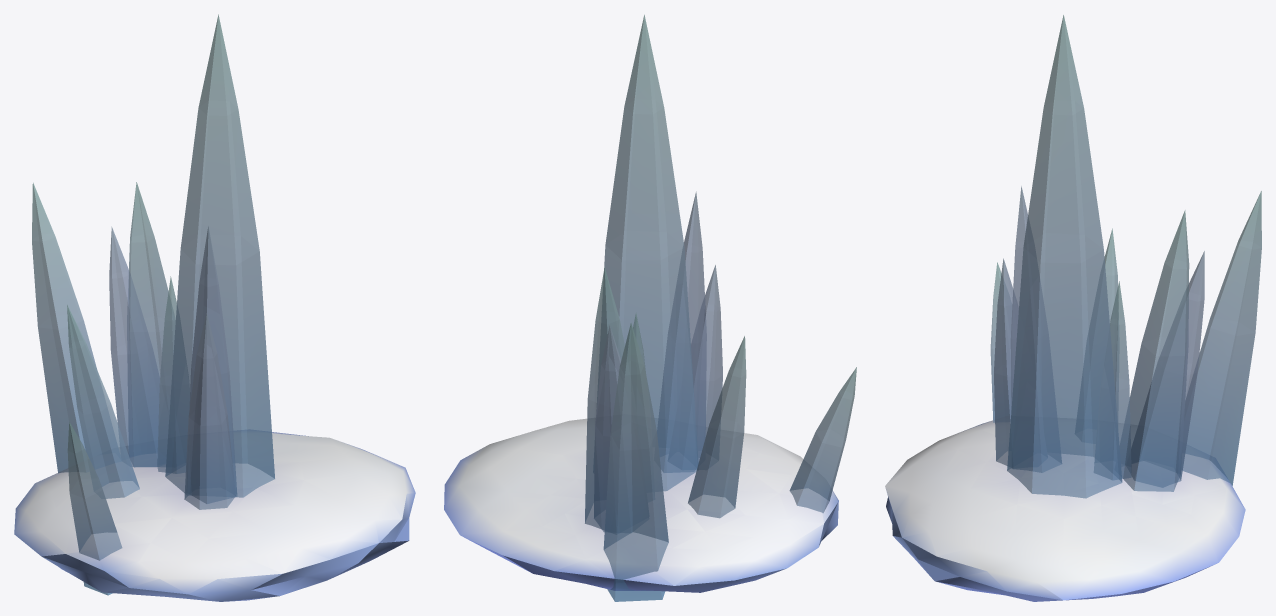
Rendered from glass_misc_ice_spikes_a.glb.
The picture shows the model from 3 angles, left to right: view 1: azimuth 30°, elevation 25°; view 2: azimuth 150°, elevation 25°; view 3: azimuth 270°, elevation 25°; orthographic projection.
Visible parts, largest first — view 1: glass_misc_ice_spikes_a; view 2: glass_misc_ice_spikes_a; view 3: glass_misc_ice_spikes_a.
Boxes of the visible parts, bbox=[...] form: glass_misc_ice_spikes_a: bbox=[14, 14, 415, 601]; glass_misc_ice_spikes_a: bbox=[444, 14, 856, 601]; glass_misc_ice_spikes_a: bbox=[885, 15, 1261, 601].
Size of the model in its own units: 3.77 by 5.1 by 3.35.
